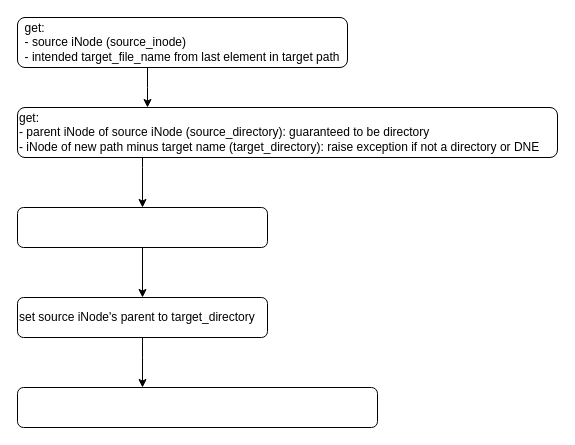
Image size: 575x445. Some labels were removed from this diagram. Each missing label, with the centre of its shape:
"add source_inode to target directory with name target_file_name" goes at point (197, 407).
"Remove source iNode from source_directory" goes at point (142, 227).
